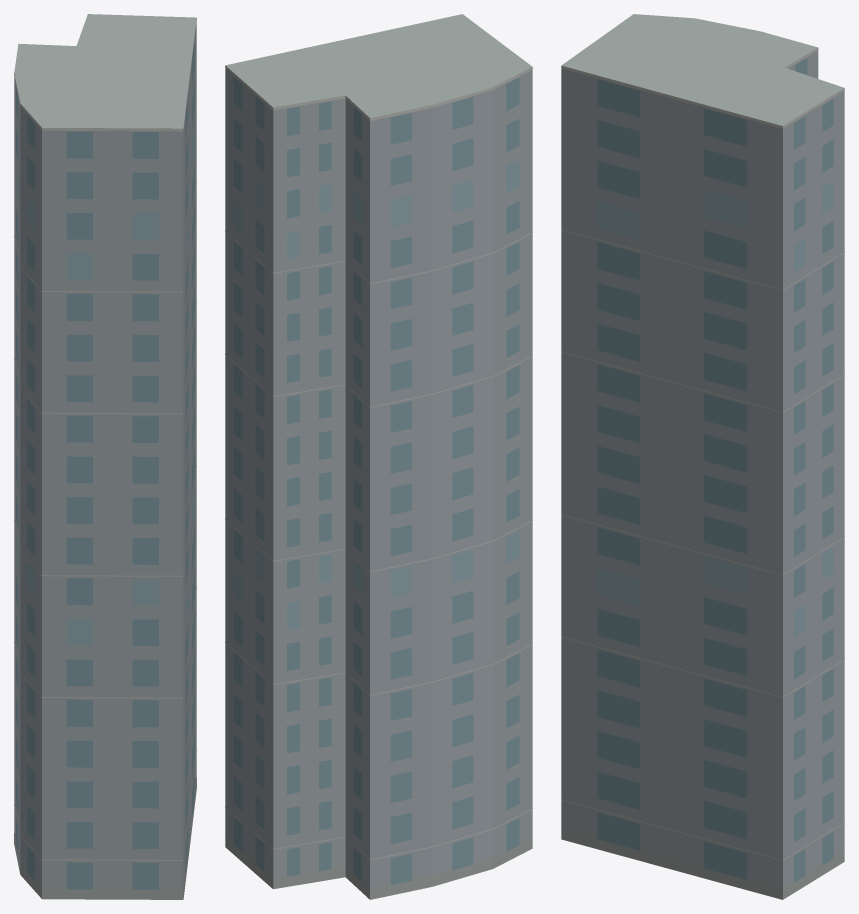
The model's file is residential-a4134b7a-9902-425b-93fb-fc5b6e9668cf.glb.
3 views of the same model, side by side, from view 1: azimuth 30°, elevation 25°; view 2: azimuth 150°, elevation 25°; view 3: azimuth 270°, elevation 25° (orthographic).
Visible parts, largest first — view 1: residential-a4134b7a-9902-425b-93fb-fc5b6e9668cf.tmp; view 2: residential-a4134b7a-9902-425b-93fb-fc5b6e9668cf.tmp; view 3: residential-a4134b7a-9902-425b-93fb-fc5b6e9668cf.tmp.
Part boxes in pixels (x1,y1,x2,y2): residential-a4134b7a-9902-425b-93fb-fc5b6e9668cf.tmp: [14, 14, 196, 899]; residential-a4134b7a-9902-425b-93fb-fc5b6e9668cf.tmp: [225, 14, 532, 899]; residential-a4134b7a-9902-425b-93fb-fc5b6e9668cf.tmp: [561, 14, 844, 899].
Bounding box in the file's own units: 20.22 × 65 × 21.6.
